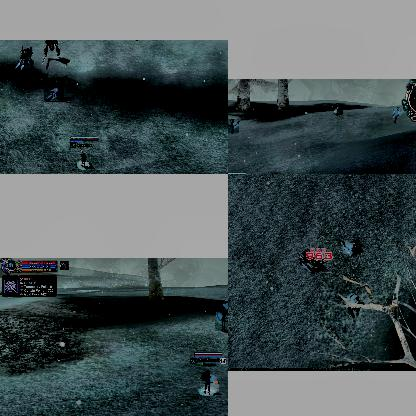caliana: (44, 78, 64, 102), (342, 240, 362, 256), (215, 309, 228, 331), (347, 297, 359, 316), (228, 118, 239, 133), (392, 106, 400, 124), (216, 299, 228, 308)
